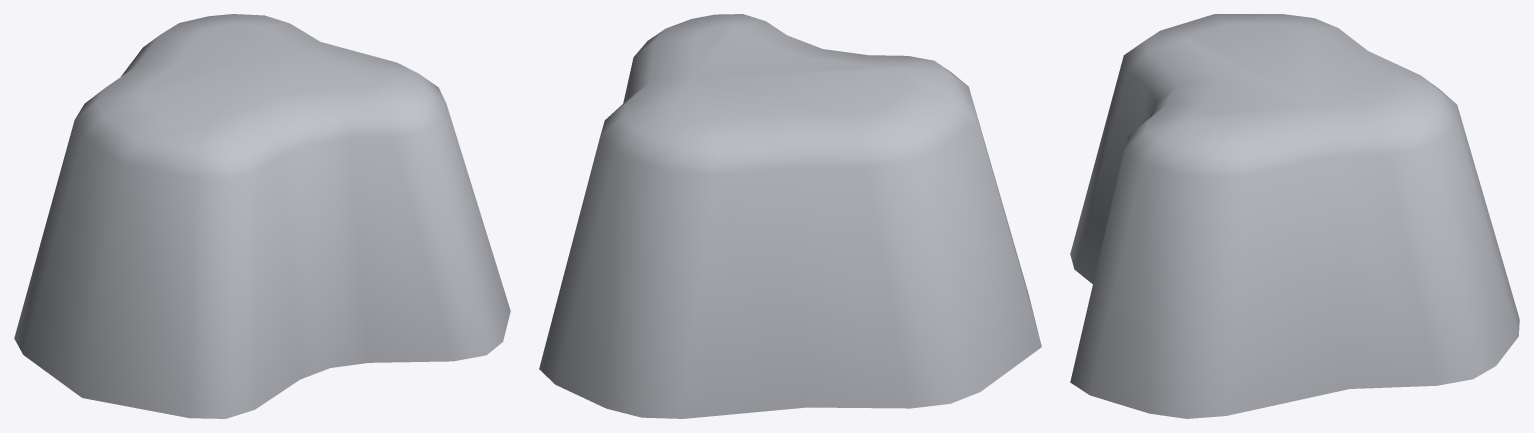
Rendered from RockBig_D.fbx.
3 renders of one model, left to right at view 1: azimuth 30°, elevation 25°; view 2: azimuth 150°, elevation 25°; view 3: azimuth 270°, elevation 25°, orthographic. The views are drawn at different scales.
Parts seen in each view (by area): view 1: RockBig_D; view 2: RockBig_D; view 3: RockBig_D.
Part boxes in pixels (x1,y1,x2,y2): RockBig_D: (14,14,510,418); RockBig_D: (539,14,1041,418); RockBig_D: (1070,14,1519,418).
Size of the model in its own units: 185 by 99.74 by 170.
